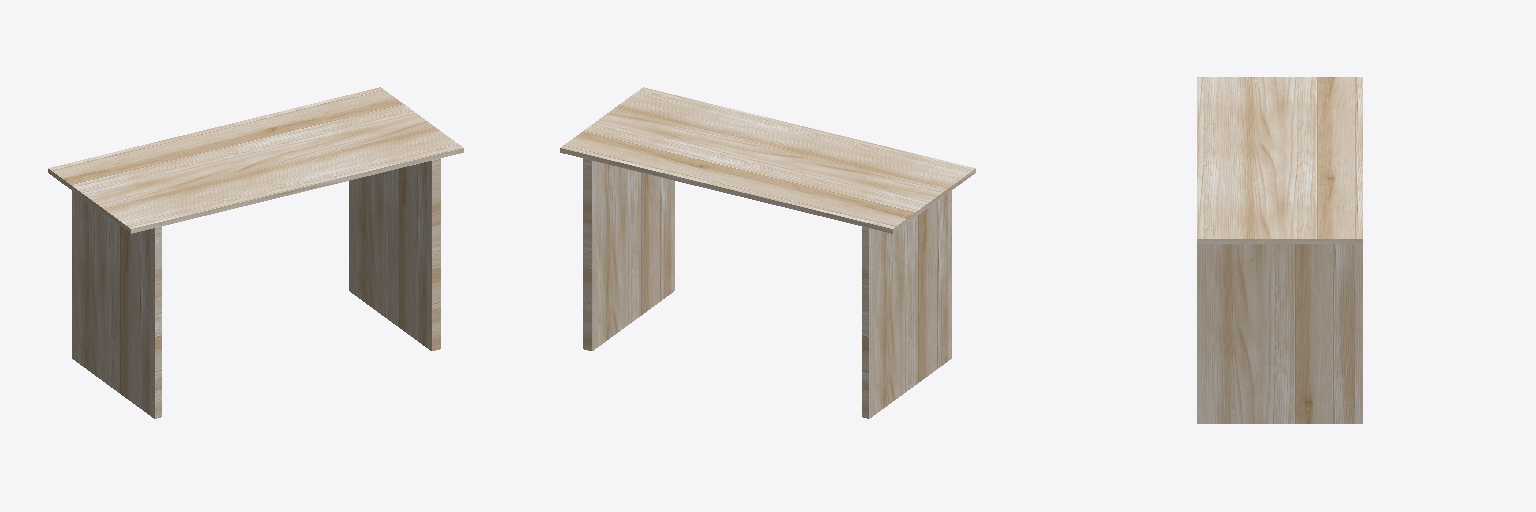
The picture shows the model from 3 angles: view 1: azimuth 30°, elevation 25°; view 2: azimuth 150°, elevation 25°; view 3: azimuth 270°, elevation 25°; orthographic projection.
Parts seen in each view (by area): view 1: table; view 2: table; view 3: table.
Part boxes in pixels (bbox=[...]): table: bbox=[48, 87, 463, 418]; table: bbox=[560, 87, 975, 418]; table: bbox=[1197, 77, 1362, 423].
Size of the model in its own units: 1.59 by 0.8951 by 0.6895.
Materials: 1 (1 with a texture image).